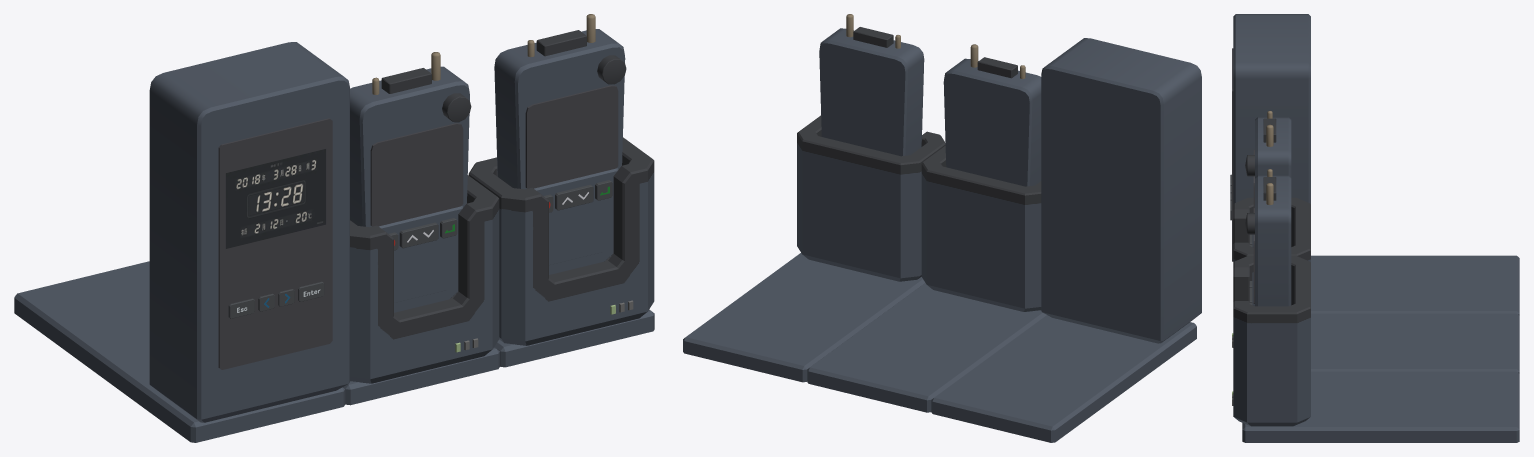
Rendered from xd-kzs-fwdnys.FBX.
3 renders of one model, left to right at view 1: azimuth 30°, elevation 25°; view 2: azimuth 150°, elevation 25°; view 3: azimuth 270°, elevation 25°, orthographic. The views are drawn at different scales.
Visible parts, largest first — view 1: xd-kzs-fwdnys, xd-kzs-fwdnys-ys; view 2: xd-kzs-fwdnys, xd-kzs-fwdnys-ys; view 3: xd-kzs-fwdnys, xd-kzs-fwdnys-ys.
Boxes of the visible parts, left/top/right/bottom form: xd-kzs-fwdnys: left=14, top=42, right=654, bottom=442; xd-kzs-fwdnys-ys: left=494, top=14, right=626, bottom=274; xd-kzs-fwdnys: left=683, top=38, right=1201, bottom=442; xd-kzs-fwdnys-ys: left=819, top=14, right=924, bottom=156; xd-kzs-fwdnys: left=1230, top=14, right=1519, bottom=442; xd-kzs-fwdnys-ys: left=1245, top=169, right=1291, bottom=306.
Bounding box in the file's own units: 57.88 × 40.01 × 40.63.
